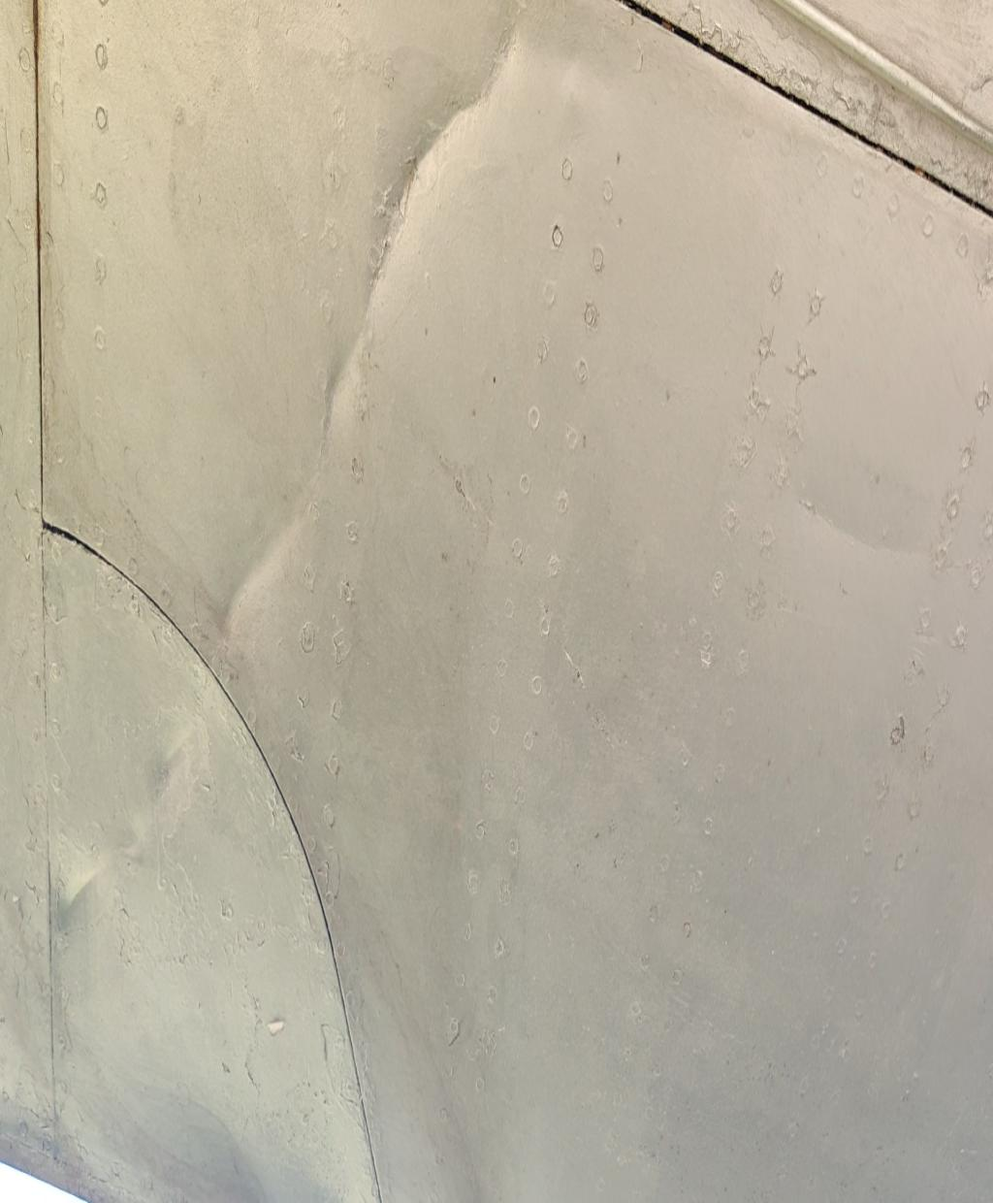dent: (217, 0, 523, 636), (790, 370, 929, 657), (137, 682, 203, 835), (46, 830, 114, 961)
